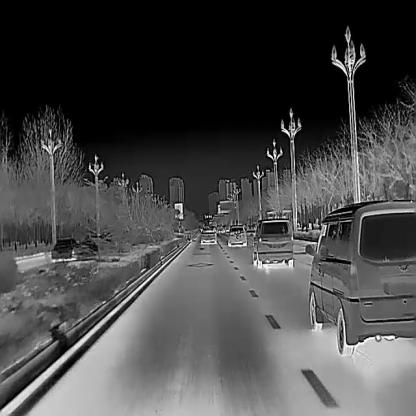car: (304, 197, 416, 355), (252, 216, 293, 267), (51, 236, 83, 262), (227, 223, 247, 245), (199, 224, 216, 243)
